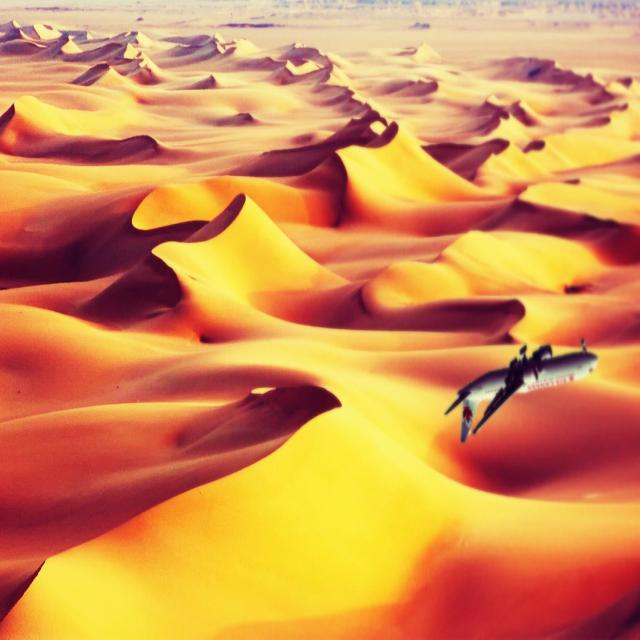airplane: (443, 337, 599, 443)
